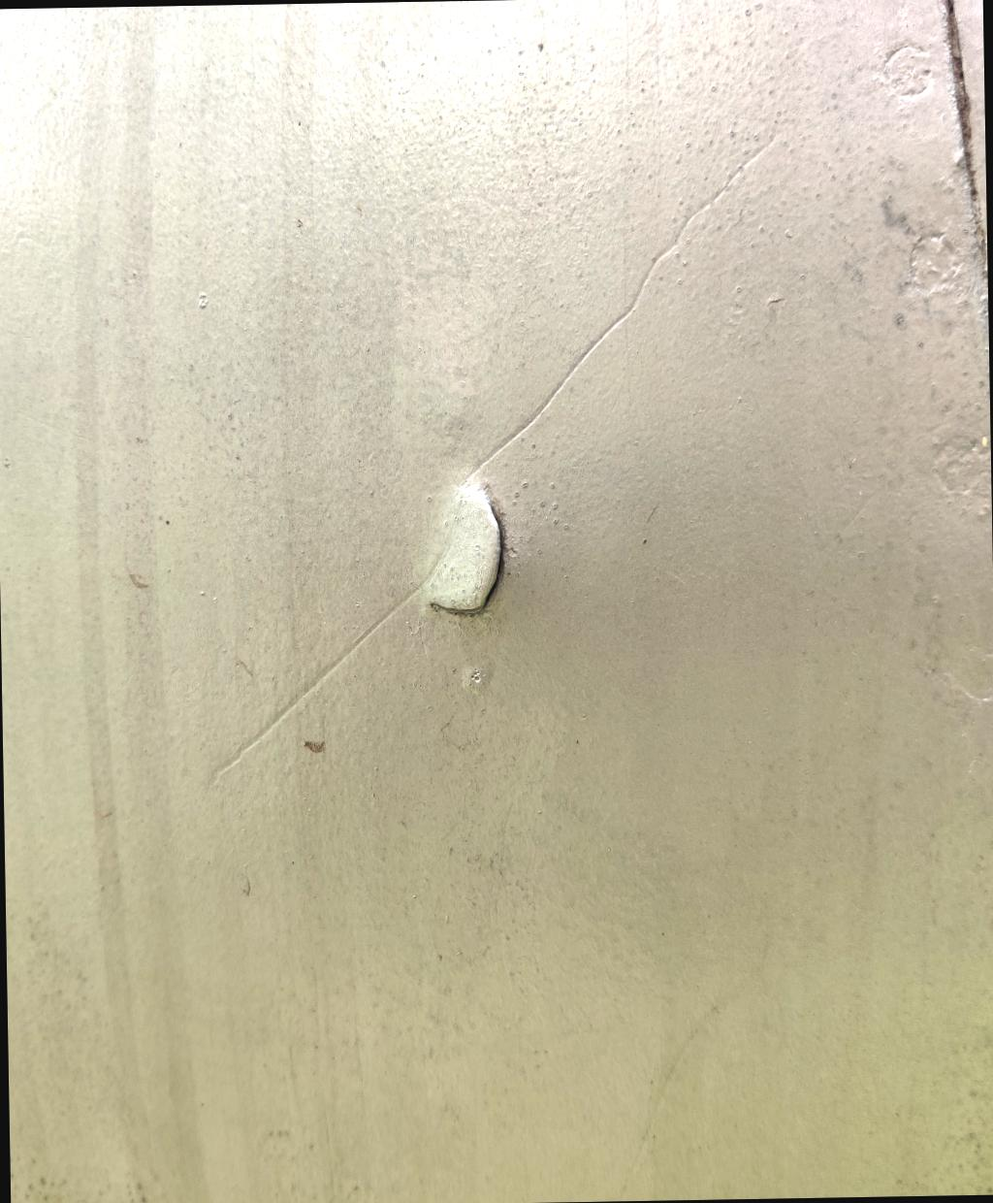crack: (394, 441, 550, 645)
